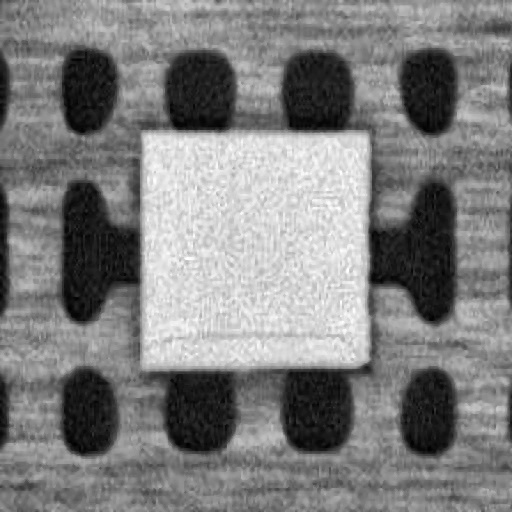DIE_CRACK: (149, 321, 354, 350)
